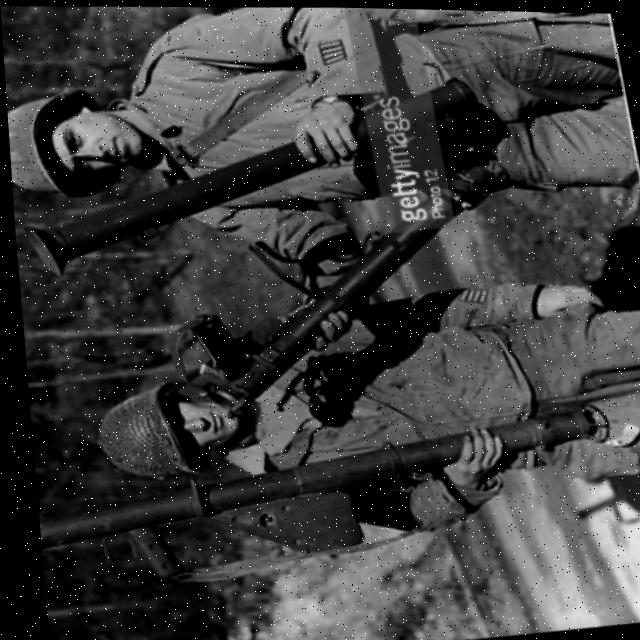rocket: (4, 71, 487, 279)
